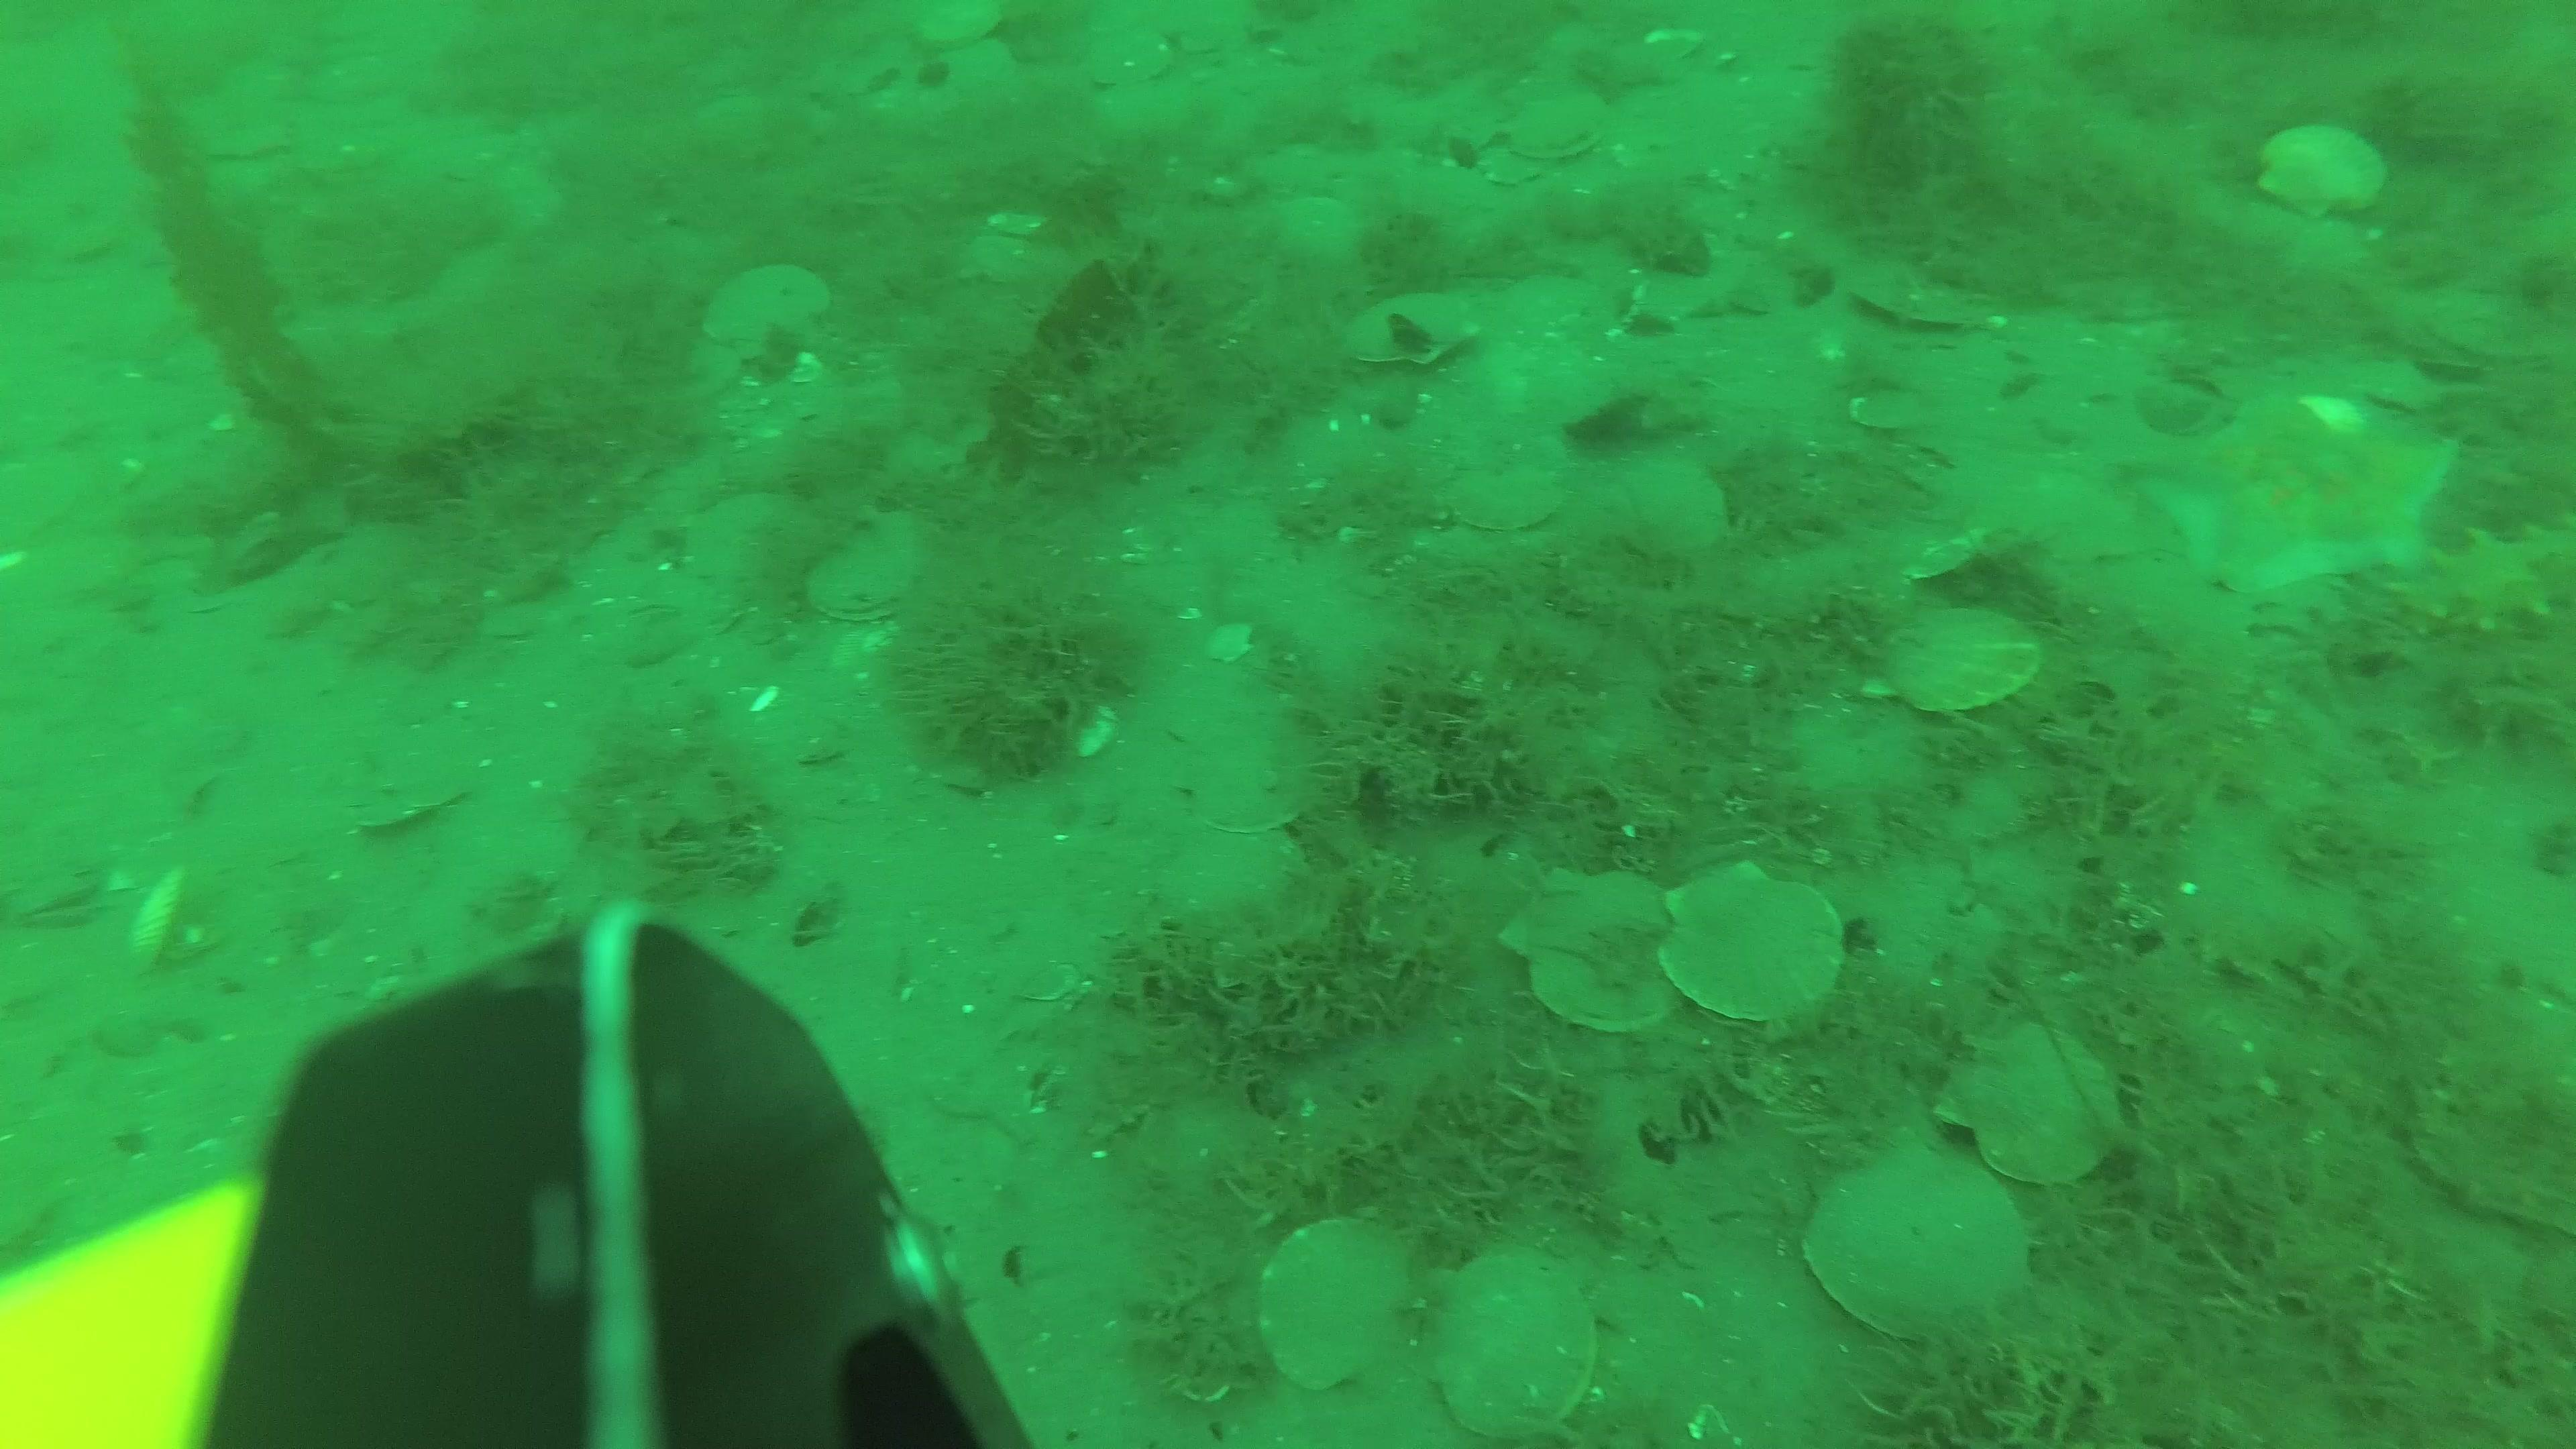holothurian: (2401, 495, 2576, 640)
scallop: (1805, 1150, 2033, 1345), (1421, 1254, 1608, 1447), (1500, 874, 1691, 1054), (1652, 867, 1851, 1035), (1948, 1023, 2130, 1205), (1258, 1223, 1431, 1394), (1879, 603, 2058, 725), (1596, 458, 1739, 563), (706, 265, 849, 361), (801, 529, 927, 635), (690, 497, 816, 598), (2259, 133, 2394, 223), (1444, 455, 1569, 547), (1339, 294, 1481, 373), (1854, 271, 1983, 347), (1500, 101, 1612, 166), (18, 863, 101, 941), (1083, 34, 1171, 94), (915, 5, 1008, 58)
starfish: (2148, 377, 2468, 602)
